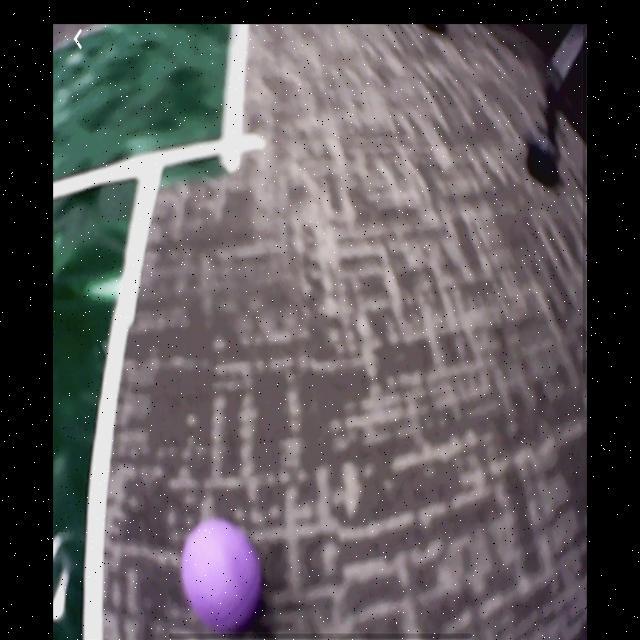ball: (180, 517, 264, 634)
